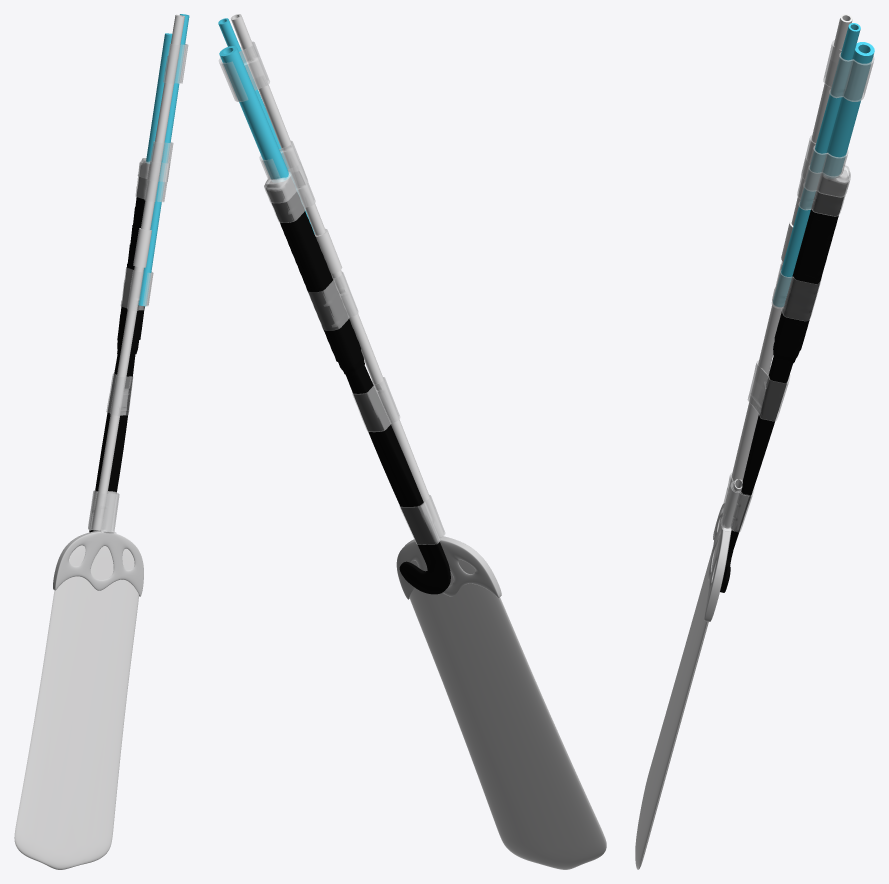
Rendered from WebOar.glb.
3 renders of one model, left to right at view 1: azimuth 30°, elevation 25°; view 2: azimuth 150°, elevation 25°; view 3: azimuth 270°, elevation 25°, orthographic. The views are drawn at different scales.
Visible parts, largest first — view 1: Polygon, Tape, Pvc, Cube, Pvc_3, Cube_2, Pvc_2, Tube_5, ShrinkWrap_9; view 2: Polygon, Tape, Cube_2, Pvc, Pvc_2, Cube, Pvc_3, ShrinkWrap_9; view 3: Tape, Polygon, Pvc, Pvc_3, Cube_2, Pvc_2, Cube, ShrinkWrap_9, ShrinkWrap_7, ShrinkWrap_4, ShrinkWrap_5, ShrinkWrap_6 (+2 smaller).
Boxes of the visible parts, x1,y1,x2,y2 form: Polygon: [14, 545, 138, 869]; Tape: [88, 43, 188, 533]; Pvc: [92, 14, 184, 530]; Cube: [53, 531, 143, 596]; Pvc_3: [138, 14, 189, 306]; Cube_2: [89, 354, 135, 532]; Pvc_2: [146, 33, 172, 163]; Tube_5: [133, 228, 151, 267]; ShrinkWrap_9: [117, 314, 141, 340]; Polygon: [409, 559, 606, 869]; Tape: [218, 41, 445, 544]; Cube_2: [346, 365, 450, 594]; Pvc: [230, 14, 443, 537]; Pvc_2: [219, 46, 289, 180]; Cube: [396, 536, 501, 599]; Pvc_3: [218, 18, 314, 234]; ShrinkWrap_9: [326, 325, 360, 363]; Tape: [720, 40, 874, 532]; Polygon: [635, 520, 720, 869]; Pvc: [724, 14, 852, 512]; Pvc_3: [773, 23, 860, 306]; Cube_2: [720, 356, 792, 592]; Pvc_2: [821, 42, 874, 176]; Cube: [704, 503, 731, 621]; ShrinkWrap_9: [774, 313, 807, 351]; ShrinkWrap_7: [784, 287, 816, 316]; ShrinkWrap_4: [799, 231, 832, 260]; ShrinkWrap_5: [794, 250, 826, 285]; ShrinkWrap_6: [789, 268, 821, 297].
Bounding box in the file's own units: 1.12 × 3.15 × 0.7152.
